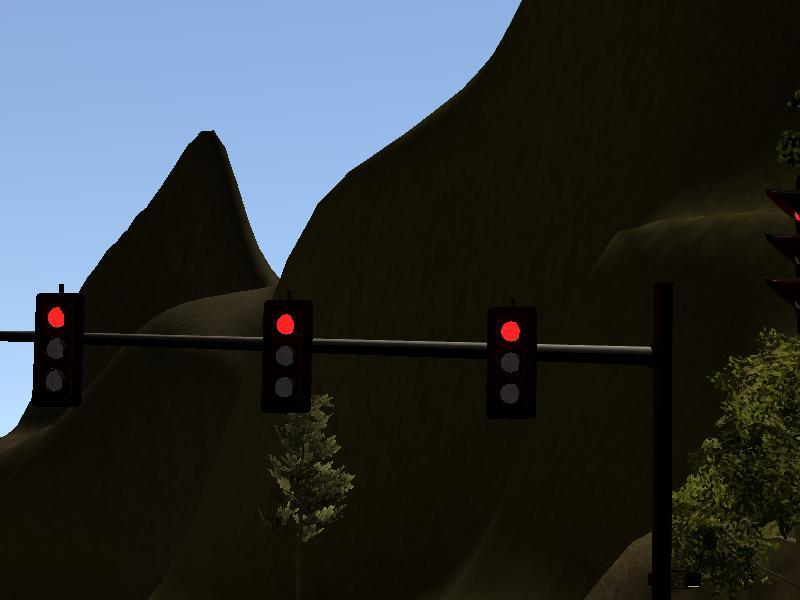Red: (35, 295, 82, 400), (488, 308, 534, 411), (266, 303, 311, 405)
